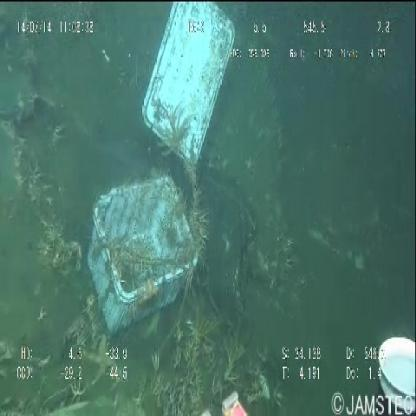Rov: (191, 322, 416, 416)
Rác: (77, 2, 248, 339)
